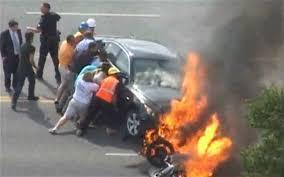fire: (137, 40, 229, 175)
